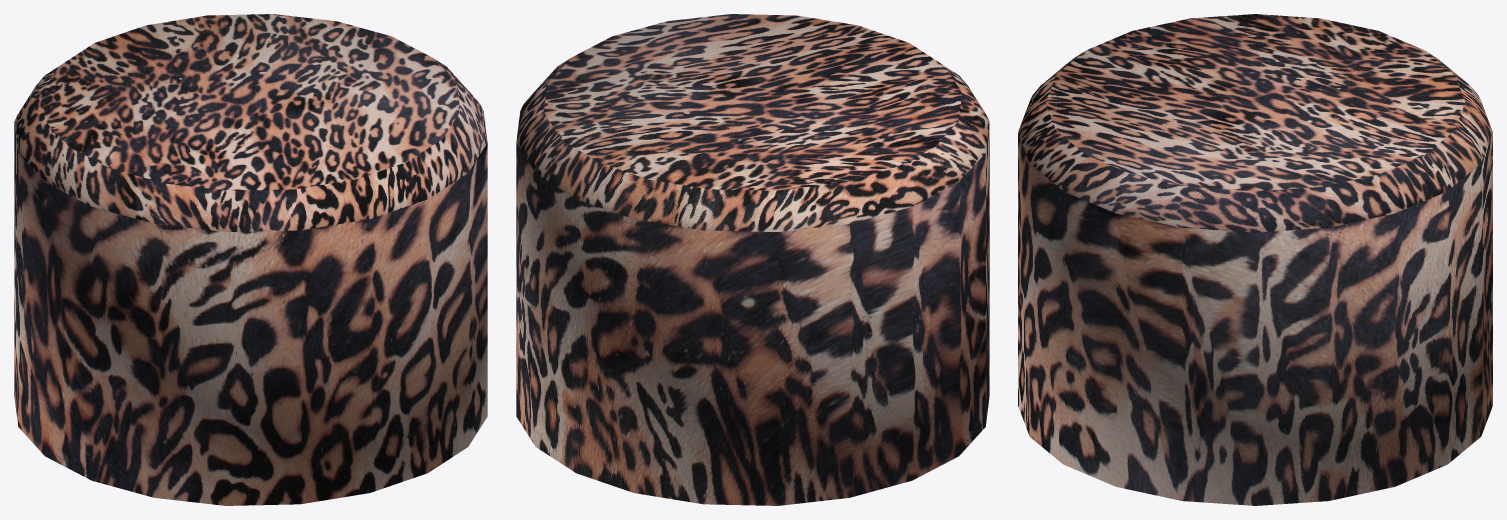
File: Pufe - 01.fbx
3 renders of one model, left to right at view 1: azimuth 30°, elevation 25°; view 2: azimuth 150°, elevation 25°; view 3: azimuth 270°, elevation 25°, orthographic.
Parts seen in each view (by area): view 1: Cubo.009; view 2: Cubo.009; view 3: Cubo.009.
Boxes of the visible parts, left/top/right/bottom form: Cubo.009: left=14, top=14, right=487, bottom=505; Cubo.009: left=516, top=14, right=989, bottom=505; Cubo.009: left=1018, top=14, right=1492, bottom=505.
Bounding box in the file's own units: 87.96 × 61.9 × 87.96.
1 material, 1 textured.
